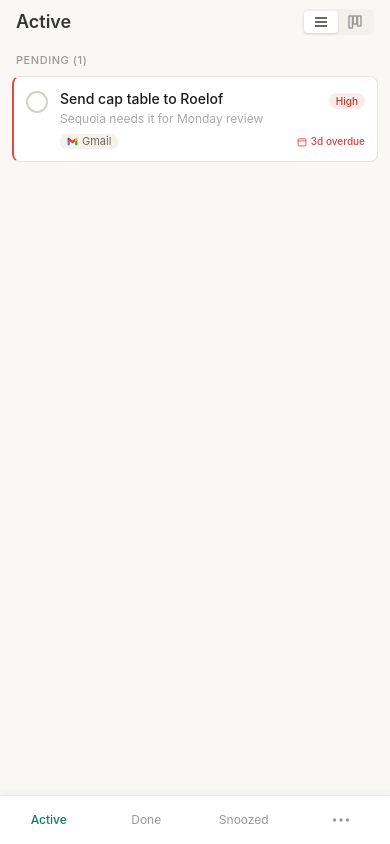
Test: Task Panel › opens panel when clicking a task card
Click the text "Send cap table to Roelof": (142, 99) x1=60 y1=90 x2=223 y2=107
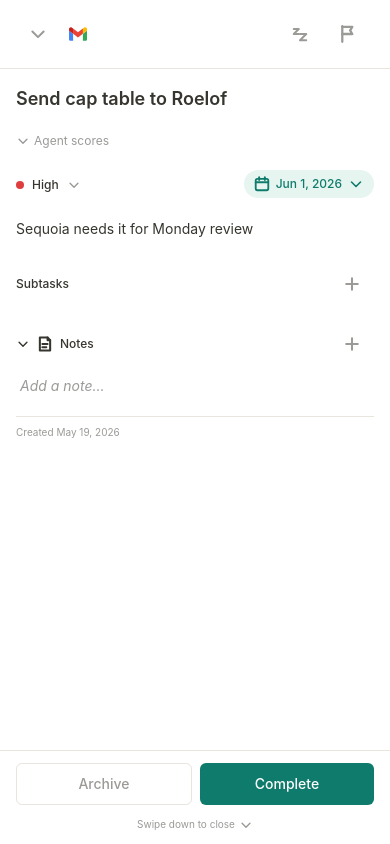
Expected: the heading "Send cap table to Roelof" is shown, x1=16 y1=88 x2=227 y2=109
